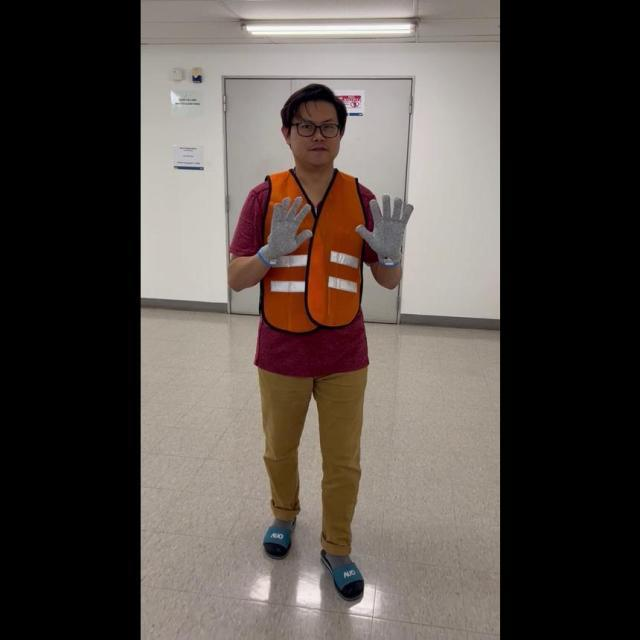gloved_hand: (353, 189, 412, 265), (260, 191, 313, 266)
